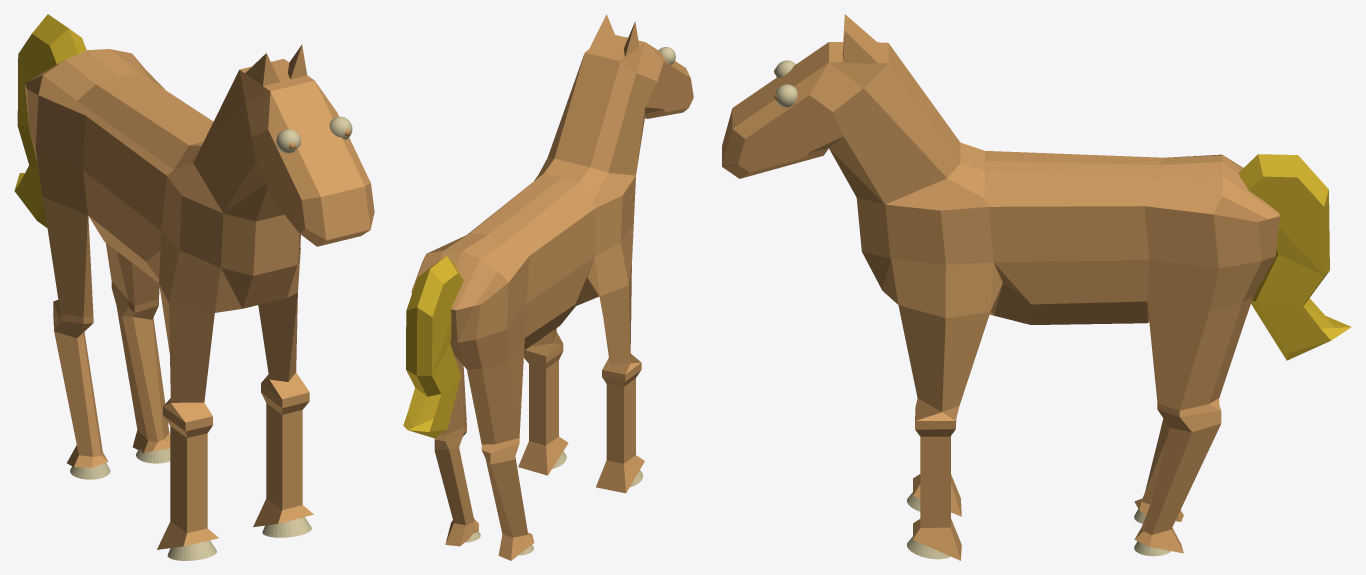
File: FlippedHorse.fbx
The picture shows the model from 3 angles, left to right: view 1: azimuth 30°, elevation 25°; view 2: azimuth 150°, elevation 25°; view 3: azimuth 270°, elevation 25°; orthographic projection. The views are drawn at different scales.
Parts seen in each view (by area): view 1: Cube; view 2: Cube; view 3: Cube.
Part boxes in pixels (x1,y1,x2,y2): Cube: (14, 14, 374, 560); Cube: (403, 14, 693, 560); Cube: (722, 14, 1351, 560).
Size of the model in its own units: 104 by 385 by 429.
